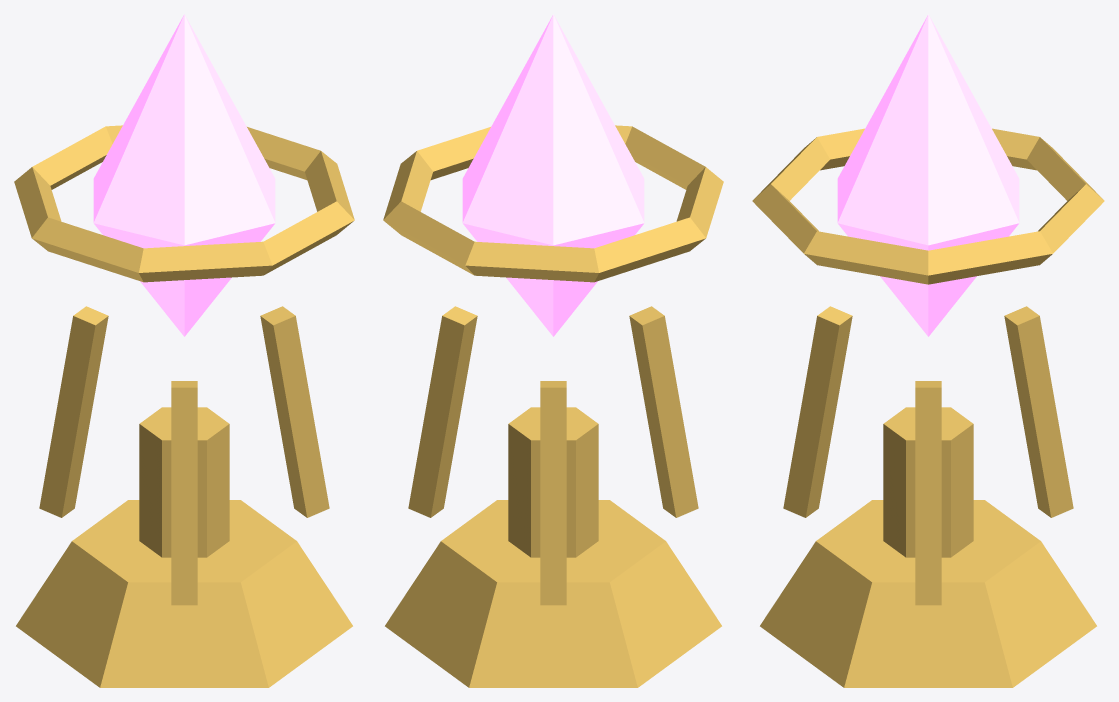
The model's file is AetherRelic.glb.
3 views of the same model, side by side, from view 1: azimuth 30°, elevation 25°; view 2: azimuth 150°, elevation 25°; view 3: azimuth 270°, elevation 25° (orthographic).
Parts seen in each view (by area): view 1: GoldBase, AetherCrystal, GoldProngs, GoldRing; view 2: GoldBase, AetherCrystal, GoldProngs, GoldRing; view 3: GoldBase, AetherCrystal, GoldProngs, GoldRing.
Boxes of the visible parts, x1=… form: GoldBase: x1=16, y1=407, x2=352, y2=687; AetherCrystal: x1=93, y1=14, x2=275, y2=336; GoldProngs: x1=39, y1=306, x2=329, y2=605; GoldRing: x1=14, y1=125, x2=354, y2=282; GoldBase: x1=385, y1=407, x2=721, y2=687; AetherCrystal: x1=462, y1=14, x2=644, y2=336; GoldProngs: x1=408, y1=306, x2=698, y2=605; GoldRing: x1=383, y1=125, x2=723, y2=282; GoldBase: x1=760, y1=407, x2=1096, y2=687; AetherCrystal: x1=837, y1=14, x2=1019, y2=336; GoldProngs: x1=783, y1=306, x2=1073, y2=605; GoldRing: x1=752, y1=128, x2=1104, y2=284.
Size of the model in its own units: 0.94 by 1.8 by 0.94.
